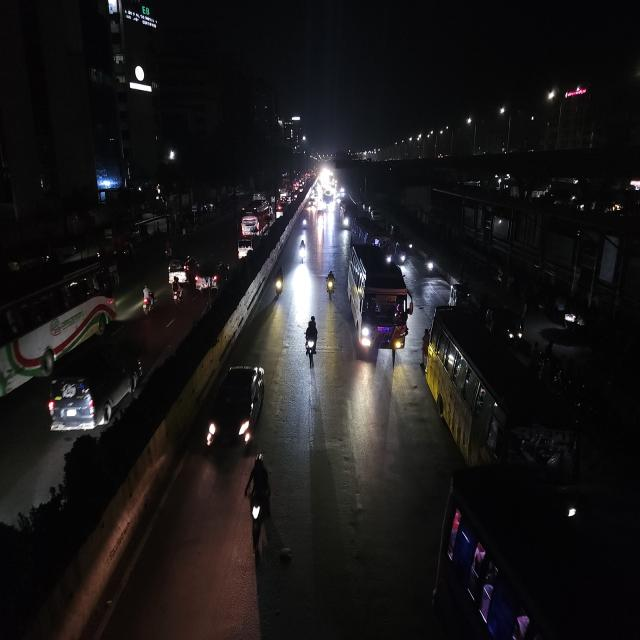bus: (434, 466, 640, 640), (428, 301, 583, 489), (1, 245, 119, 406), (346, 242, 414, 357), (350, 215, 392, 266), (238, 200, 272, 238), (338, 198, 352, 229)
car: (45, 338, 145, 441), (203, 359, 268, 456), (193, 256, 230, 296), (165, 253, 193, 285), (236, 235, 254, 264)
cng: (448, 278, 472, 304)
motorcycle: (243, 450, 275, 550), (302, 312, 320, 366), (138, 283, 156, 317), (323, 268, 338, 304), (273, 264, 285, 304), (170, 276, 184, 306), (422, 251, 437, 278), (297, 238, 308, 267)
